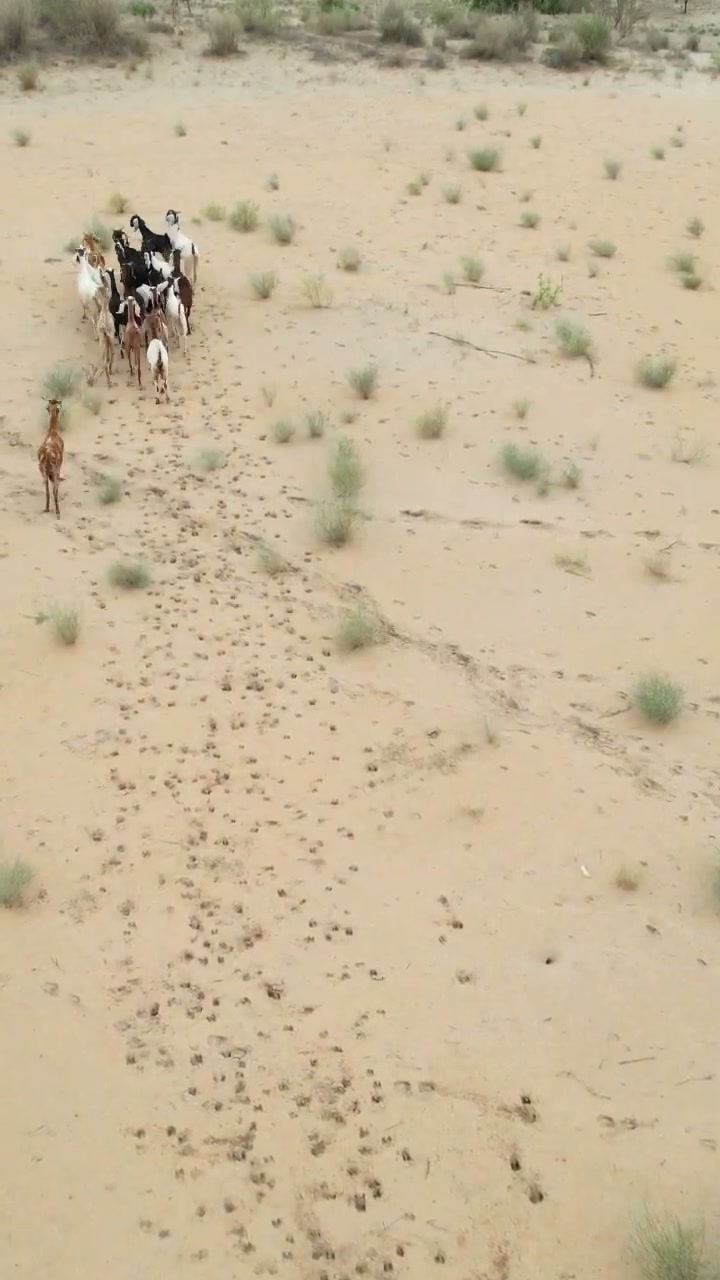animal_foot_print: (79, 410, 500, 1259)
